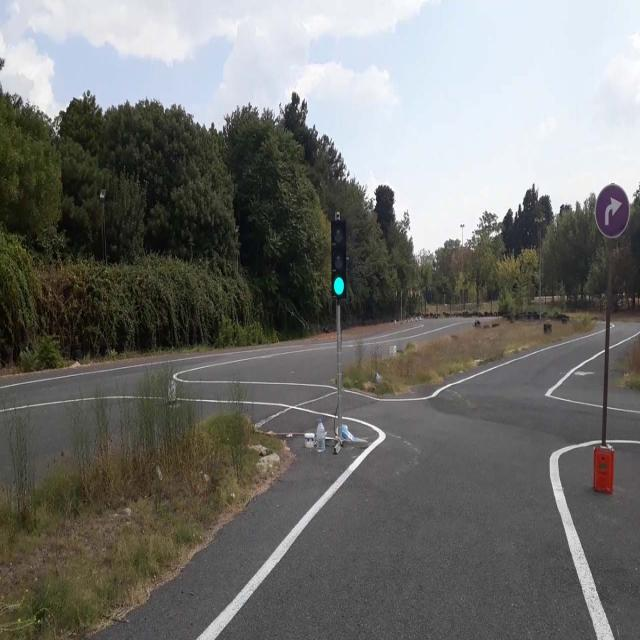sag: (597, 185, 628, 237)
yesil: (331, 222, 347, 298)
